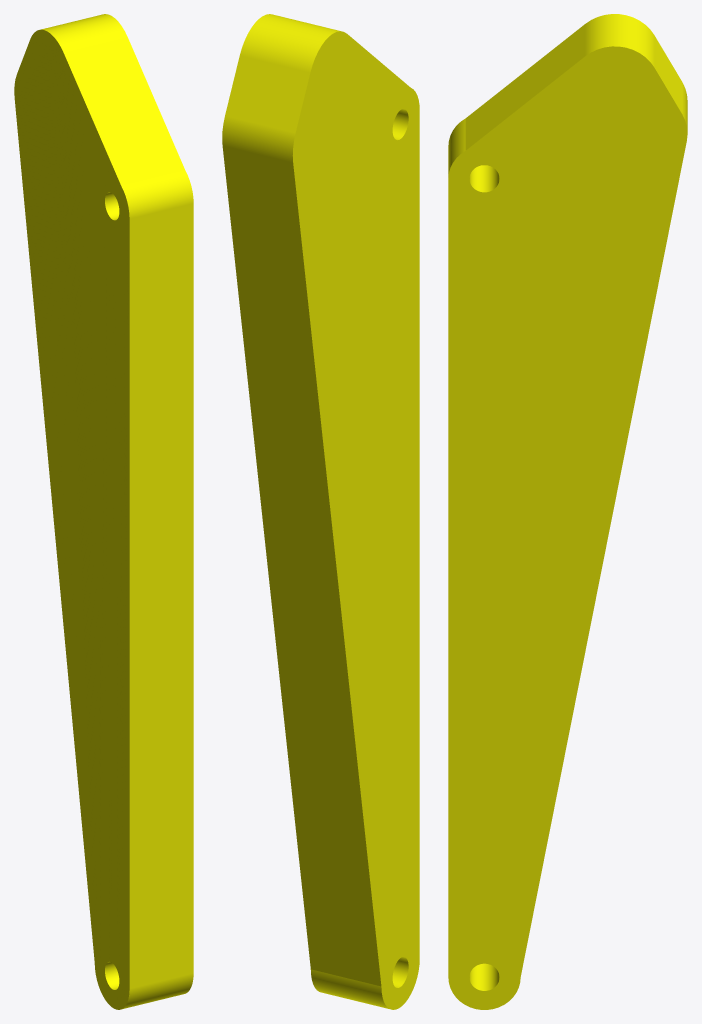
The model's file is stick.glb.
3 views of the same model, side by side, from view 1: azimuth 30°, elevation 25°; view 2: azimuth 150°, elevation 25°; view 3: azimuth 270°, elevation 25° (orthographic). The views are drawn at different scales.
Parts seen in each view (by area): view 1: stick_3; view 2: stick_3; view 3: stick_3.
Part boxes in pixels (x1=…): stick_3: x1=14, y1=14, x2=193, y2=1009; stick_3: x1=222, y1=14, x2=419, y2=1009; stick_3: x1=448, y1=14, x2=687, y2=1009.
Bounding box in the file's own units: 0.255 × 3.53 × 0.7942.
